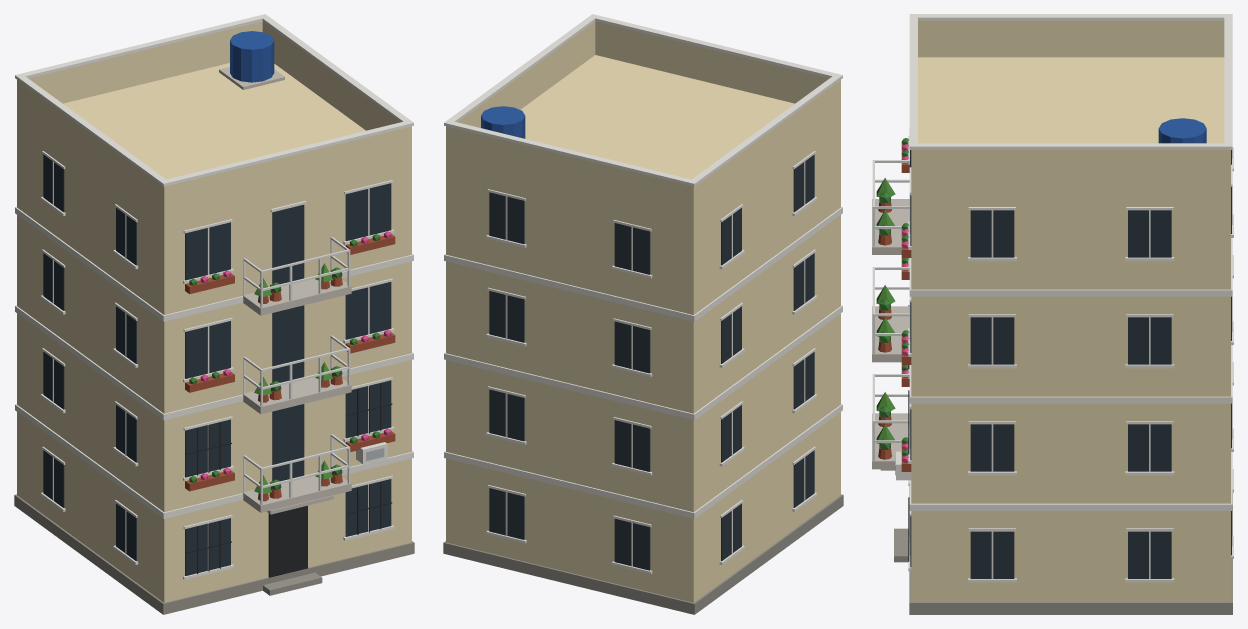
The model's file is BAY_F_Tower_L.glb.
3 views of the same model, side by side, from view 1: azimuth 30°, elevation 25°; view 2: azimuth 150°, elevation 25°; view 3: azimuth 270°, elevation 25° (orthographic). The views are drawn at different scales.
Visible parts, largest first — view 1: BAY_F_Tower_L; view 2: BAY_F_Tower_L; view 3: BAY_F_Tower_L.
Boxes of the visible parts, x1,y1,x2,y2 form: BAY_F_Tower_L: (14,14,414,614); BAY_F_Tower_L: (443,14,843,614); BAY_F_Tower_L: (872,14,1233,614).
Size of the model in its own units: 7.24 by 11.8 by 8.27.
1 material, 1 textured.
